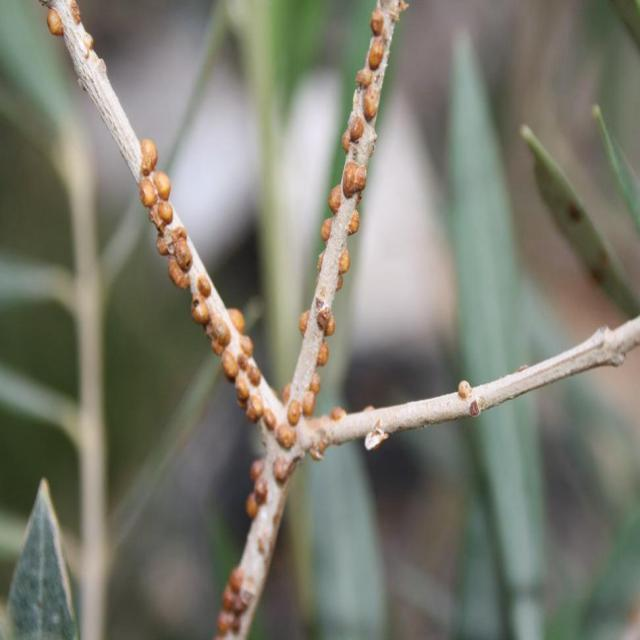BlackScale: (272, 0, 408, 488), (138, 140, 277, 428), (214, 458, 272, 639), (38, 0, 98, 59), (458, 380, 474, 401)
